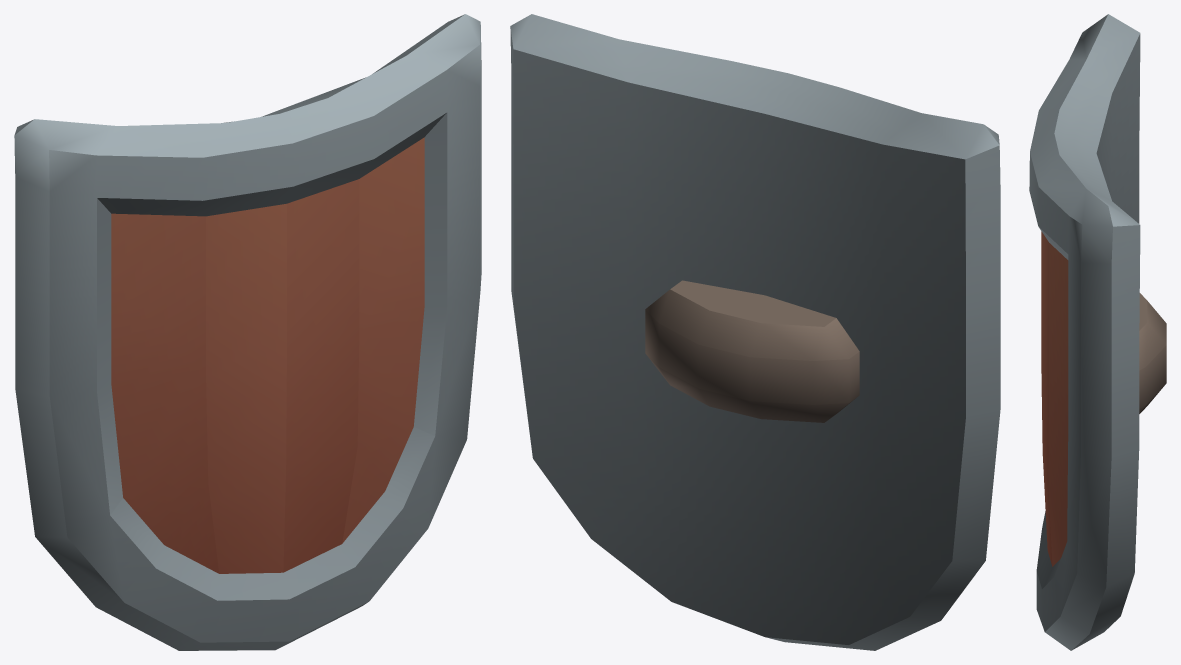
The picture shows the model from 3 angles, left to right: view 1: azimuth 30°, elevation 25°; view 2: azimuth 150°, elevation 25°; view 3: azimuth 270°, elevation 25°; orthographic projection. The views are drawn at different scales.
Parts seen in each view (by area): view 1: shield_badge; view 2: shield_badge; view 3: shield_badge.
Part boxes in pixels (x1,y1,x2,y2): shield_badge: (14,14,481,650); shield_badge: (510,14,1000,650); shield_badge: (1029,14,1166,650).
Size of the model in its own units: 0.8826 by 1.02 by 0.2459.
Materials: 1 (1 with a texture image).
